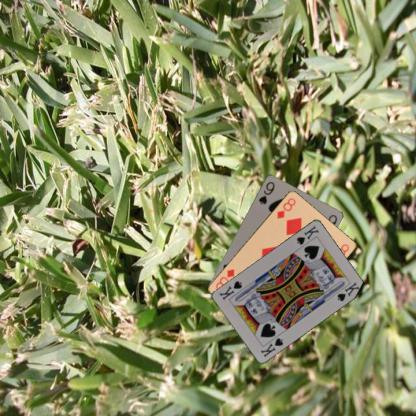8d: (274, 195, 297, 220)
9s: (256, 179, 276, 205)
Ks: (294, 223, 320, 246), (258, 335, 284, 358)
